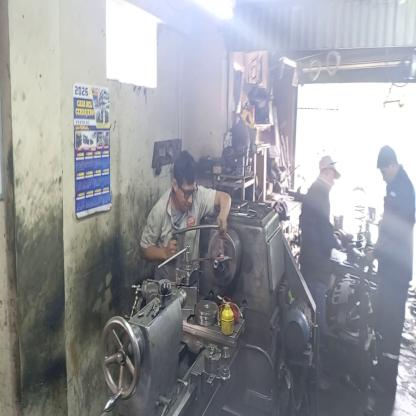lentes: (176, 180, 198, 202)
